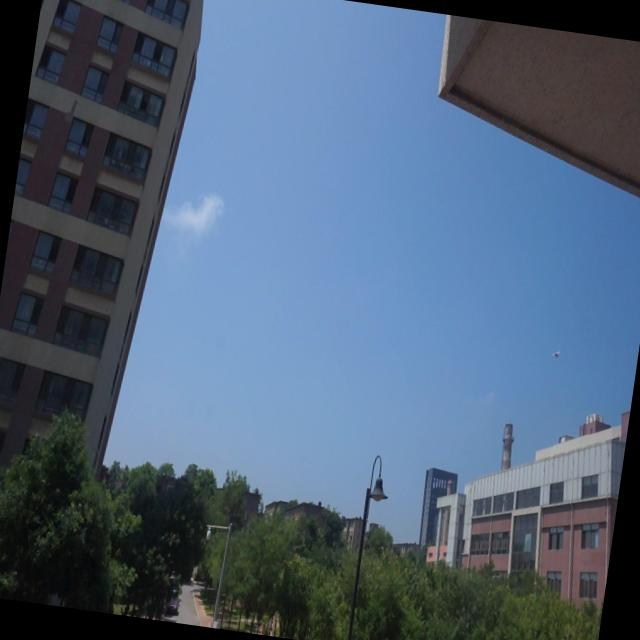drone: (549, 346, 564, 362)
